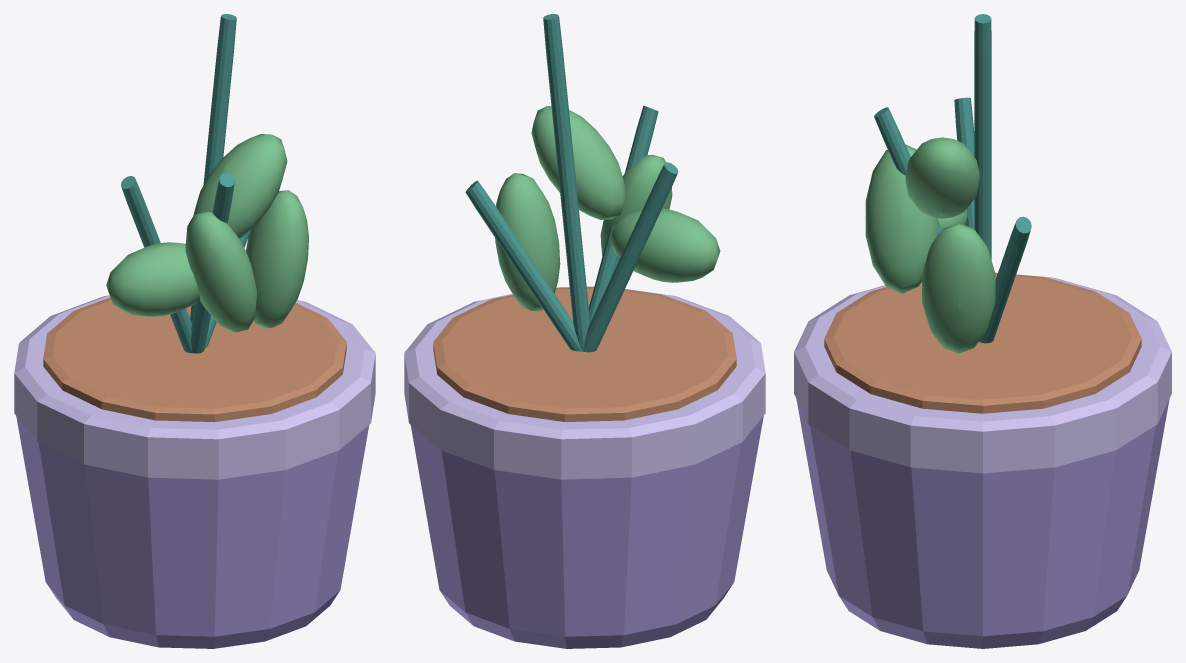
File: plant_pot.glb
3 views of the same model, side by side, from view 1: azimuth 30°, elevation 25°; view 2: azimuth 150°, elevation 25°; view 3: azimuth 270°, elevation 25° (orthographic). The views are drawn at different scales.
Visible parts, largest first — view 1: pot, model, soil, rim; view 2: pot, model, soil, rim; view 3: pot, soil, rim, model.
Part boxes in pixels (box(x1,y1,x2,y2)): pot: box(16, 416, 369, 648); model: box(106, 14, 308, 353); soil: box(43, 297, 346, 421); rim: box(14, 295, 375, 479); pot: box(410, 416, 763, 648); model: box(465, 14, 720, 352); soil: box(433, 286, 736, 421); rim: box(404, 289, 765, 479); pot: box(796, 399, 1169, 648); soil: box(824, 272, 1141, 413); rim: box(794, 274, 1171, 473); model: box(865, 14, 1031, 353).
Bounding box in the file's own units: 0.35 × 0.6 × 0.35.
